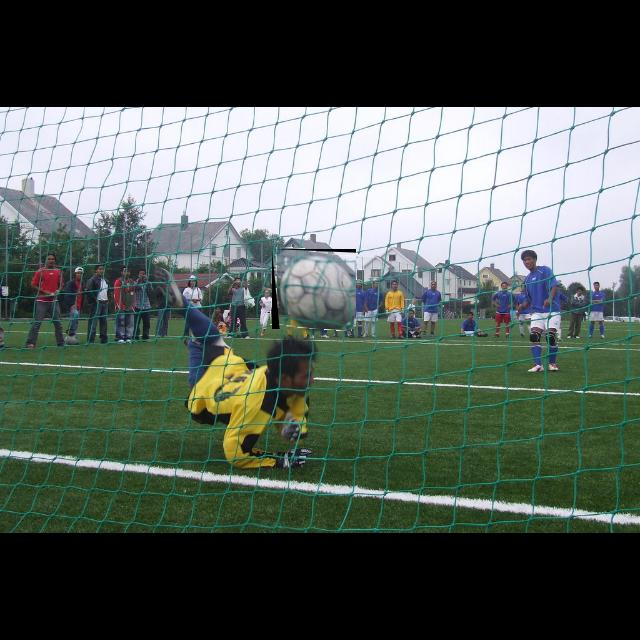Football: (272, 249, 356, 329)
